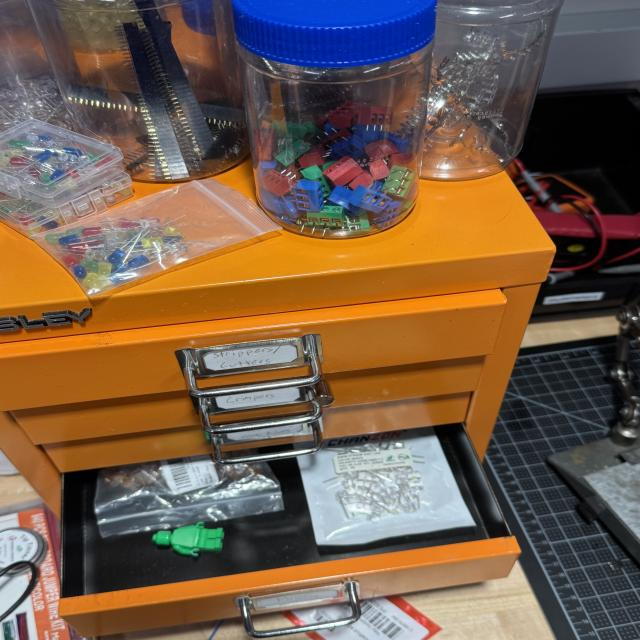Green Mini Figure: (152, 522, 224, 557)
